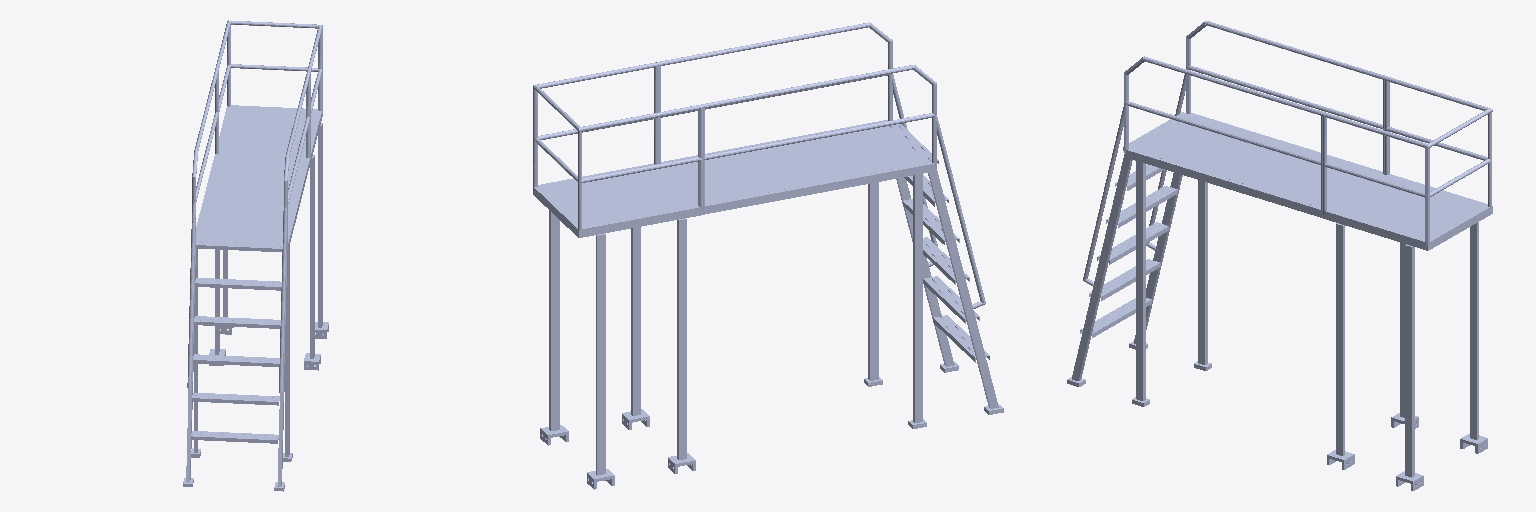
robot.urdf — bigger_ladder:
<?xml version="1.0" encoding="utf-8"?>
<!-- This URDF was automatically created by SolidWorks to URDF Exporter! Originally created by [author] ([email redacted]) 
     Commit Version: 1.6.0-4-g7f85cfe  Build Version: 1.6.7995.38578
     For more information, please see http://wiki.ros.org/sw_urdf_exporter -->
<robot
  name="bigger_ladder">
  <link
    name="base_link">
    <inertial>
      <origin
        xyz="0.30148 -5.7714E-06 0.87869"
        rpy="0 0 0" />
      <mass
        value="13.223" />
      <inertia
        ixx="0.91289"
        ixy="7.3651E-08"
        ixz="-0.10077"
        iyy="1.2042"
        iyz="1.4459E-07"
        izz="0.51497" />
    </inertial>
    <visual>
      <origin
        xyz="0 0 0"
        rpy="0 0 0.94" />
      <geometry>
        <mesh
          filename="package://hangar_model/obstacles/bigger_ladder/meshes/base_link.STL" />
      </geometry>
      <material
        name="">
        <color
          rgba="0.79216 0.81961 0.93333 1" />
      </material>
    </visual>
    <collision>
      <origin
        xyz="0 0 0"
        rpy="0 0 0" />
      <geometry>
        <mesh
          filename="package://hangar_model/obstacles/bigger_ladder/meshes/base_link.STL" />
      </geometry>
    </collision>
  </link>
</robot>

--- Facts derived from the render (not from the file) ---
The picture shows the robot from 3 angles, left to right: view 1: azimuth 30°, elevation 25°; view 2: azimuth 150°, elevation 25°; view 3: azimuth 270°, elevation 25°; orthographic projection.
Robot: bigger_ladder — 1 links, 0 joints (none); root link base_link; default pose: all joints at 0.
Visible links, largest first — view 1: base_link; view 2: base_link; view 3: base_link.
Link boxes in pixels (x1=…): base_link: x1=183, y1=20, x2=328, y2=491; base_link: x1=533, y1=22, x2=1003, y2=489; base_link: x1=1067, y1=21, x2=1492, y2=490.
Bounding box of the posed robot: 1.61 × 1.94 × 1.75 m (x, y, z).
1 mesh visuals loaded from 1 distinct referenced files (1 binary STL).
